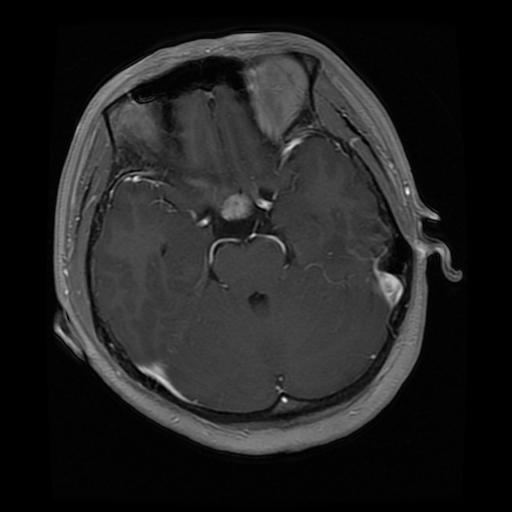Pituirity_tumour: (220, 193, 253, 219)
